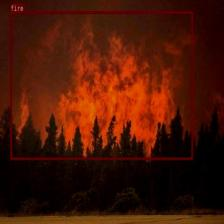fire: (10, 11, 193, 159)
